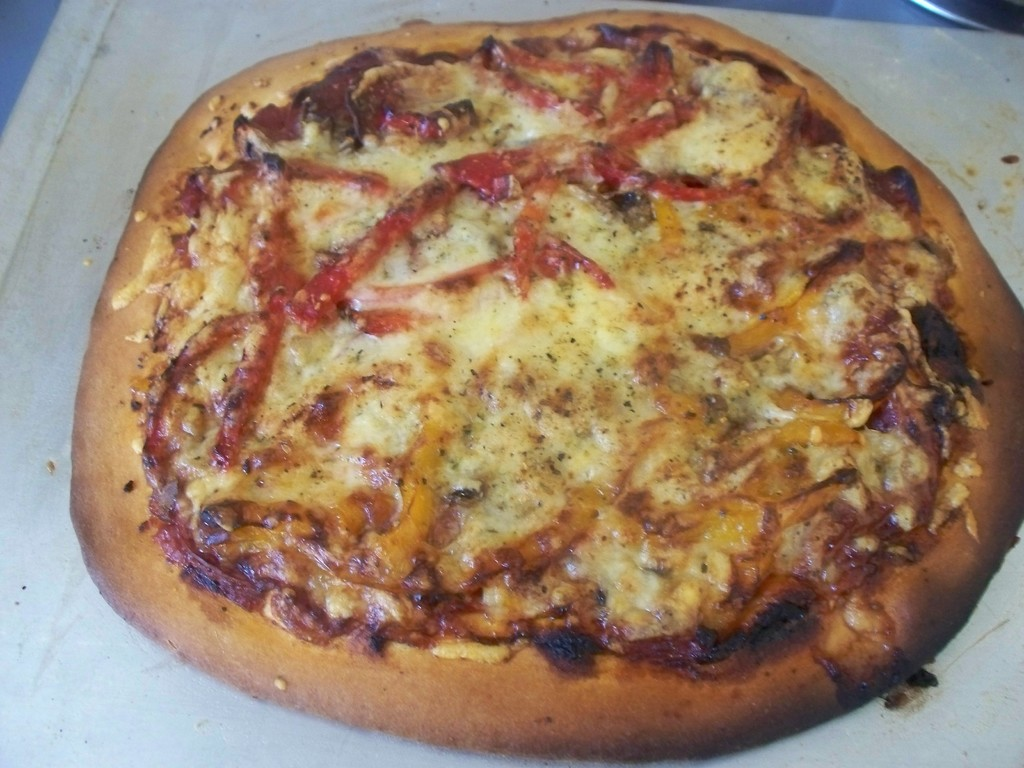Pizza: (63, 1, 1023, 765)
